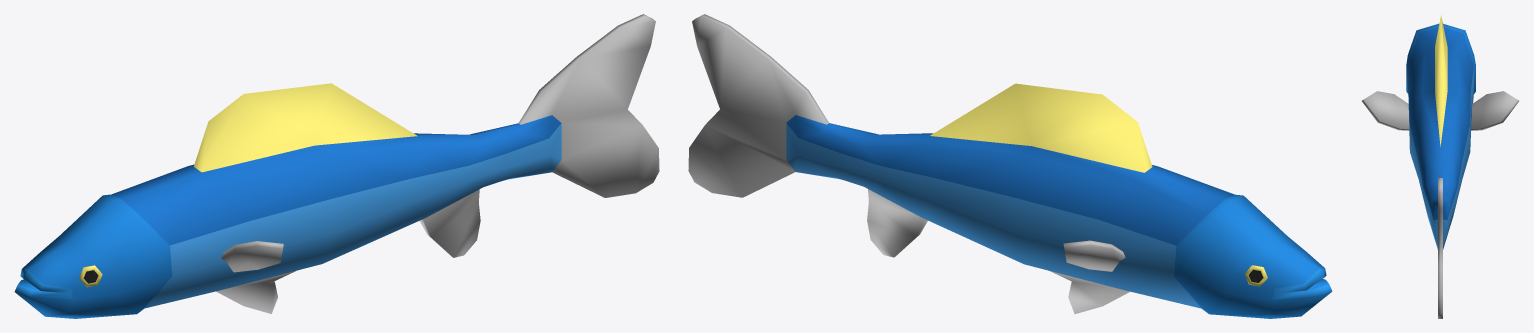
Rendered from Fish_004.fbx.
3 renders of one model, left to right at view 1: azimuth 30°, elevation 25°; view 2: azimuth 150°, elevation 25°; view 3: azimuth 270°, elevation 25°, orthographic. The views are drawn at different scales.
Visible parts, largest first — view 1: Fish_004; view 2: Fish_004; view 3: Fish_004.
Boxes of the visible parts, left/top/right/bottom form: Fish_004: left=14, top=14, right=659, bottom=318; Fish_004: left=688, top=14, right=1332, bottom=318; Fish_004: left=1362, top=15, right=1518, bottom=318.
Size of the model in its own units: 128 by 34.39 by 43.09.
Materials: 1 (1 with a texture image).
